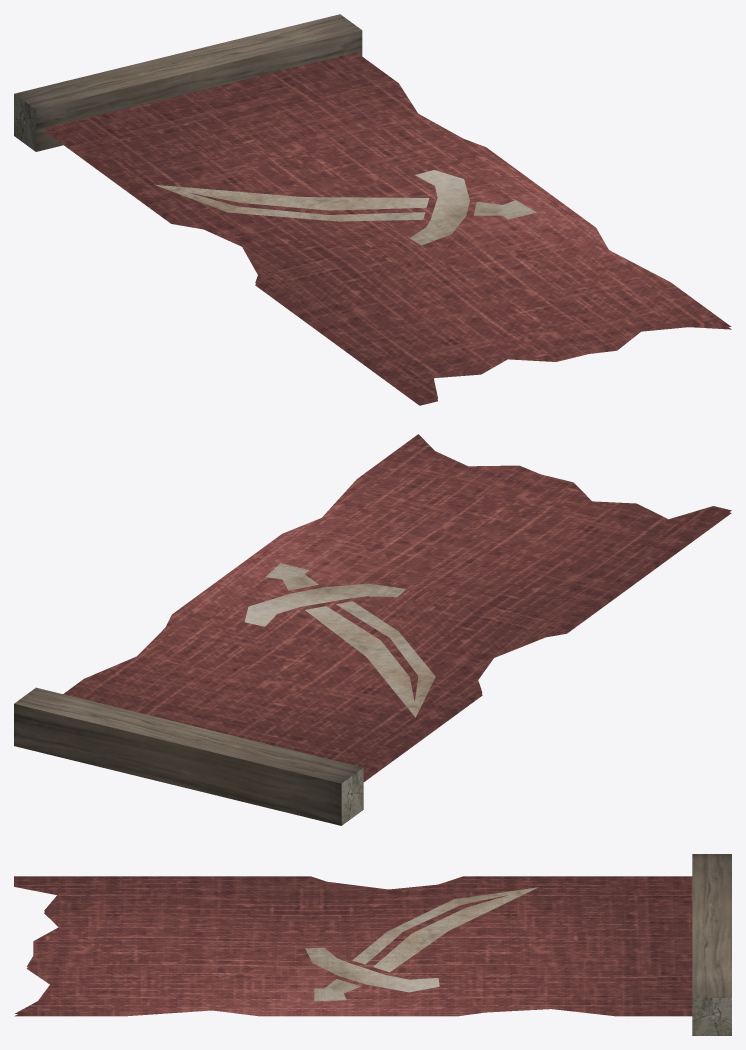
Rendered from Pirate_Banner_Sword_B.fbx.
The picture shows the model from 3 angles, top to bottom: view 1: azimuth 30°, elevation 25°; view 2: azimuth 150°, elevation 25°; view 3: azimuth 270°, elevation 25°; orthographic projection. The views are drawn at different scales.
Visible parts, largest first — view 1: Pirate_Banner_Sword_B; view 2: Pirate_Banner_Sword_B; view 3: Pirate_Banner_Sword_B.
Part boxes in pixels (x1,y1,x2,y2): Pirate_Banner_Sword_B: (14, 14, 731, 405); Pirate_Banner_Sword_B: (14, 434, 731, 825); Pirate_Banner_Sword_B: (14, 854, 731, 1035).
Bounding box in the file's own units: 1.2 × 0.1485 × 2.54.
